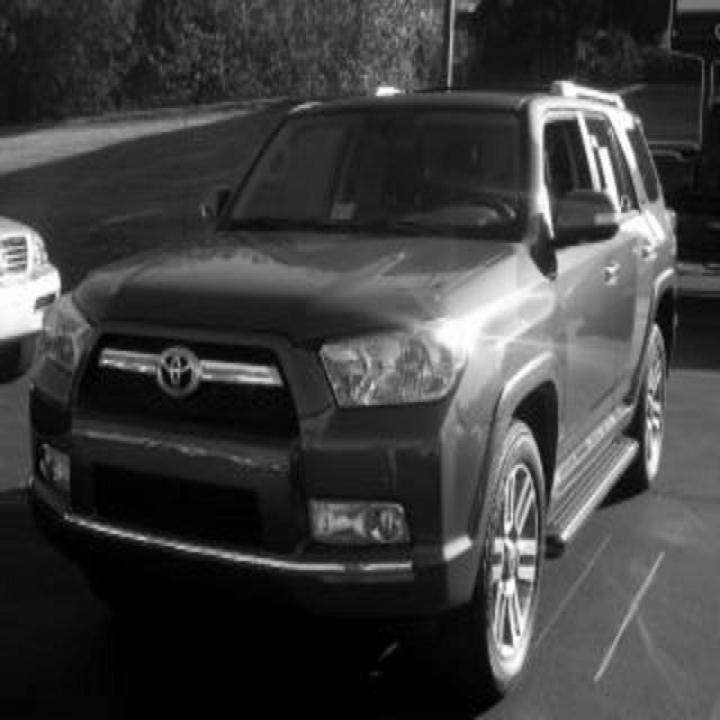car: (25, 78, 680, 696), (0, 213, 62, 386)
